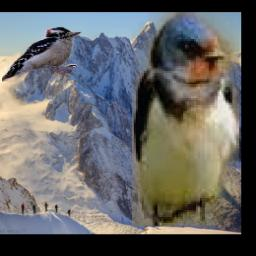Swallow: (131, 12, 238, 226)
Woodpecker: (1, 28, 81, 82)
